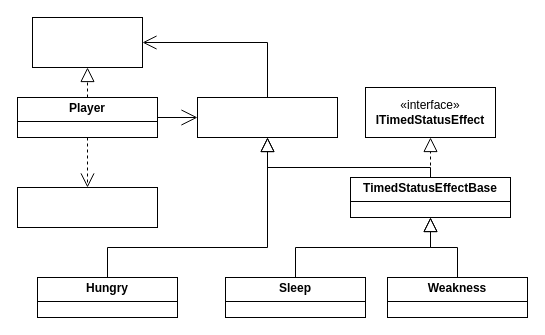
Image size: 545x335. Some labels were removed from this diagram. The box of each missing label's shape, as (x1, y1, x2, y2) in pixels:
FlagUtility: (16, 186, 158, 228)
StatusEffectBase: (196, 96, 338, 138)
«interface» IStatusEffectable: (32, 16, 142, 68)
